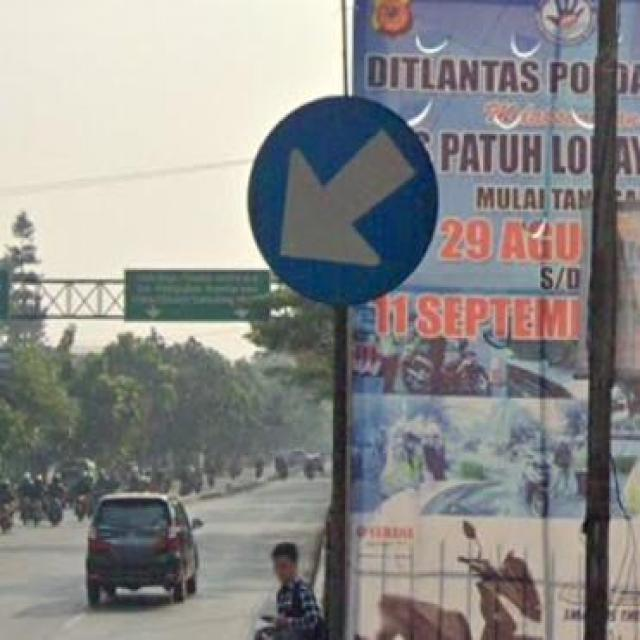traffic sign: (254, 98, 437, 304)
